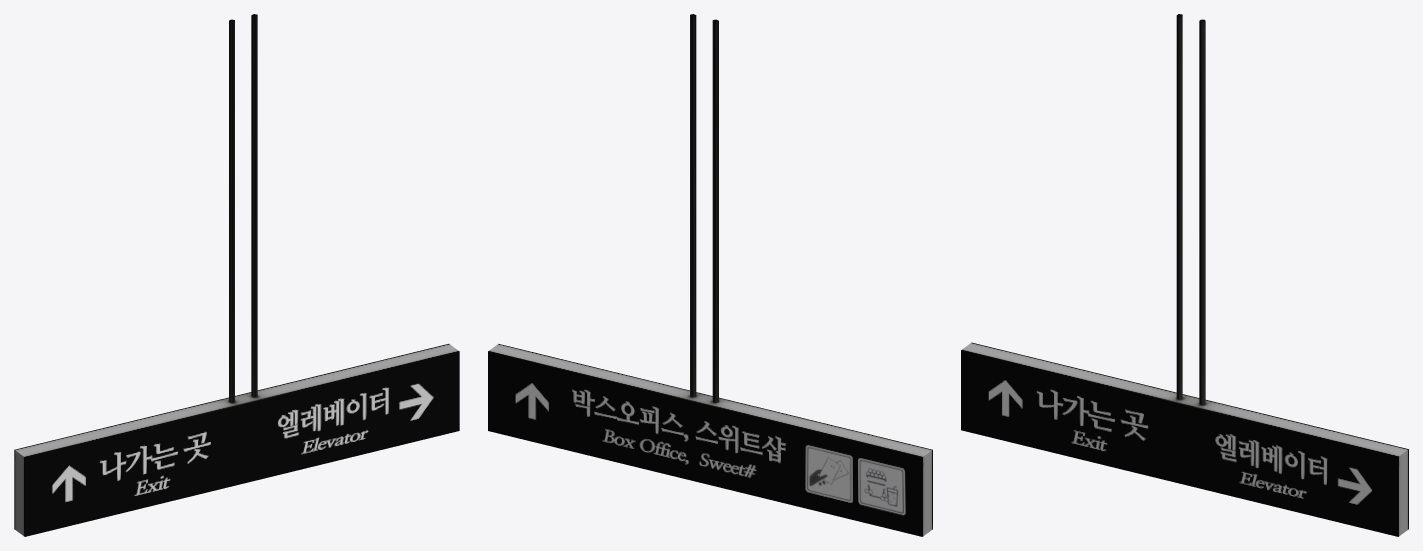
The model's file is LC_3019_GuideSign_A_LOD1.FBX.
3 renders of one model, left to right at view 1: azimuth 30°, elevation 25°; view 2: azimuth 150°, elevation 25°; view 3: azimuth 330°, elevation 25°, orthographic.
Visible parts, largest first — view 1: LC_3019_GuideSign_A_LOD1; view 2: LC_3019_GuideSign_A_LOD1; view 3: LC_3019_GuideSign_A_LOD1.
Boxes of the visible parts, x1=… form: LC_3019_GuideSign_A_LOD1: x1=14, y1=14, x2=459, y2=536; LC_3019_GuideSign_A_LOD1: x1=488, y1=14, x2=932, y2=536; LC_3019_GuideSign_A_LOD1: x1=961, y1=14, x2=1408, y2=536.
Bounding box in the file's own units: 120 × 122 × 5.
Materials: 1 (1 with a texture image).
